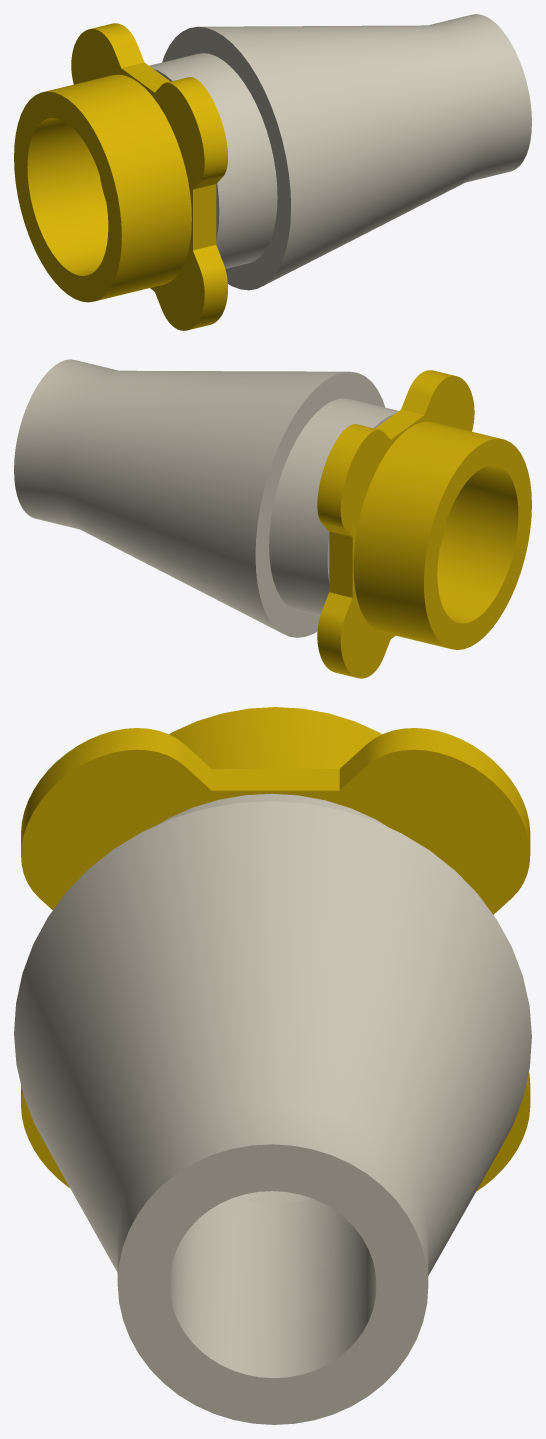
The model's file is base_projectile.obj.
3 renders of one model, top to bottom at view 1: azimuth 30°, elevation 25°; view 2: azimuth 150°, elevation 25°; view 3: azimuth 270°, elevation 25°, orthographic. The views are drawn at different scales.
Parts seen in each view (by area): view 1: Inner-Node-base__projectile_dot_io-1.001; view 2: Inner-Node-base__projectile_dot_io-1.001; view 3: Inner-Node-base__projectile_dot_io-1.001.
Part boxes in pixels (x1,y1,x2,y2): Inner-Node-base__projectile_dot_io-1.001: (14,14,531,330); Inner-Node-base__projectile_dot_io-1.001: (14,359,531,678); Inner-Node-base__projectile_dot_io-1.001: (14,707,531,1424).
Bounding box in the file's own units: 0.181 × 0.1003 × 0.1007.
